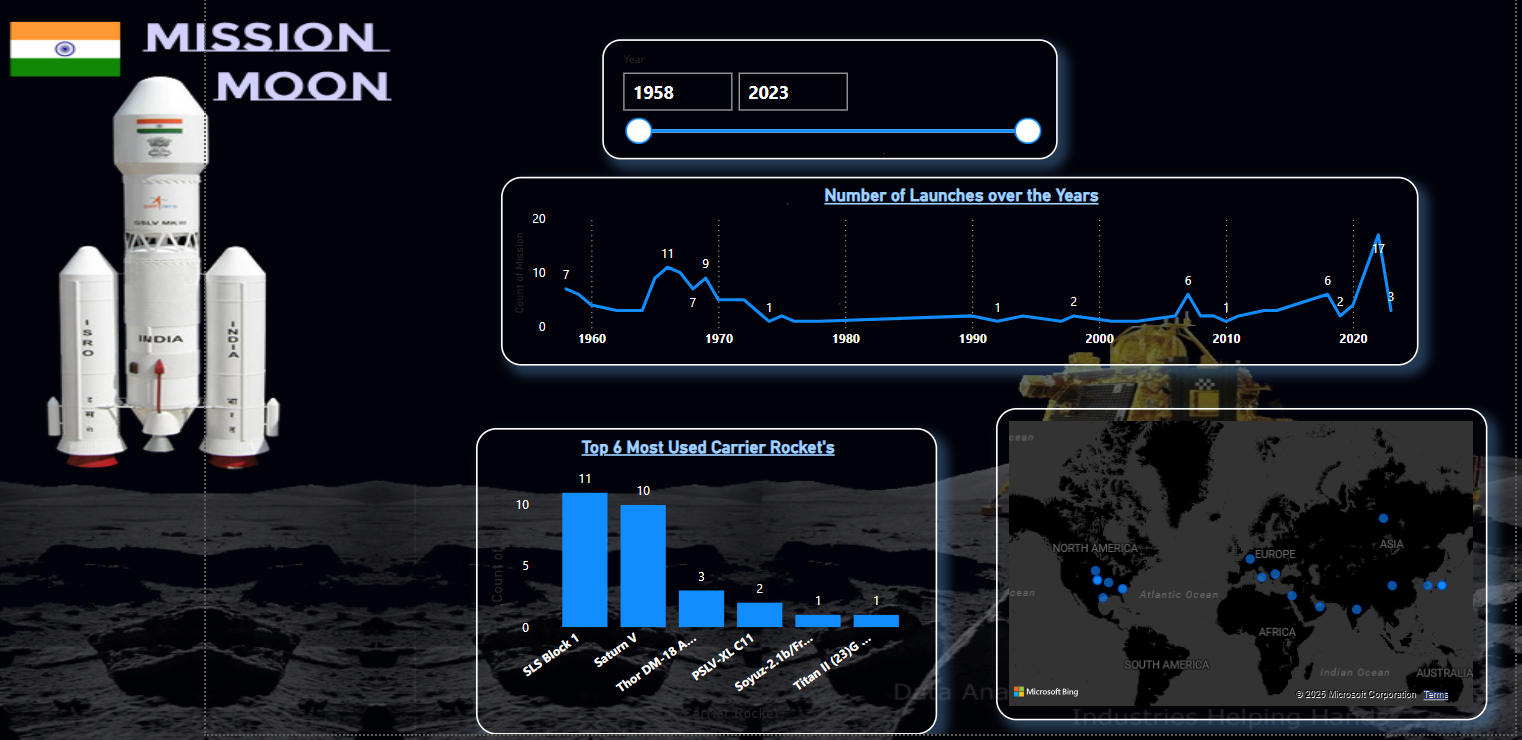

What the dashboard file says about the page in this screenshot:
{"tool":"powerbi","page":{"name":"Dashboard 2","canvas":[1280,720],"ordinal":1},"visuals":[{"type":"slicer","fields":{"Values":["Data set Part 1 - Moonlanding.Launch Date.Variation.Date Hierarchy.Year"]},"box":[388,40.6,445.4,117.7],"z":0},{"type":"clusteredColumnChart","title":"Top 6 Most Used Carrier Rocket''s","fields":{"Y":["CountNonNull(Data set Part 1 - Moonlanding.Mission)"],"Category":["Data set Part 1 - Moonlanding.Carrier Rocket"]},"box":[264.7,420.2,451,299.8],"z":1},{"type":"map","fields":{"Category":["Data set Part 1 - Moonlanding.Operator"]},"box":[773.2,400.6,480.5,305.4],"z":2},{"type":"lineChart","title":"Number of Launches over the Years","fields":{"Category":["Data set Part 1 - Moonlanding.Launch Date.Variation.Date Hierarchy.Year"],"Y":["CountNonNull(Data set Part 1 - Moonlanding.Mission)"]},"box":[288.6,175.1,897.9,184.9],"z":3}]}

Visuals, with their boxes in screenshot pixels (x1, y1, x2, y2):
slicer - Data set Part 1 - Moonlanding.Launch Date.Variation.Date Hierarchy.Year: region(600, 37, 1052, 157)
"Top 6 Most Used Carrier Rocket''s" clusteredColumnChart: region(475, 423, 933, 727)
map - Data set Part 1 - Moonlanding.Operator: region(991, 403, 1479, 713)
"Number of Launches over the Years" lineChart: region(499, 174, 1411, 362)
